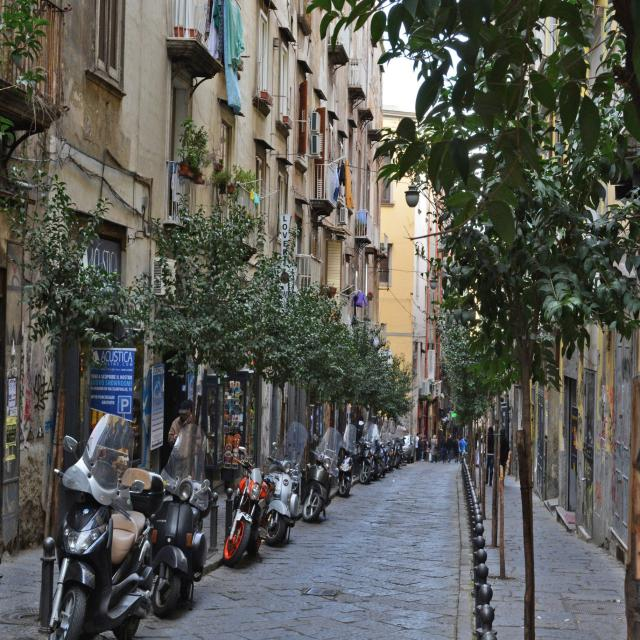body: (166, 400, 202, 482), (463, 433, 485, 469), (484, 425, 495, 487), (499, 427, 510, 488), (429, 434, 438, 464), (445, 432, 453, 464), (356, 414, 366, 438), (458, 435, 466, 464), (452, 438, 460, 464), (440, 436, 447, 464), (418, 437, 425, 462), (414, 432, 420, 461), (423, 437, 428, 462), (423, 434, 429, 453), (452, 427, 462, 438), (428, 437, 432, 460), (418, 432, 424, 443), (436, 436, 438, 444)
